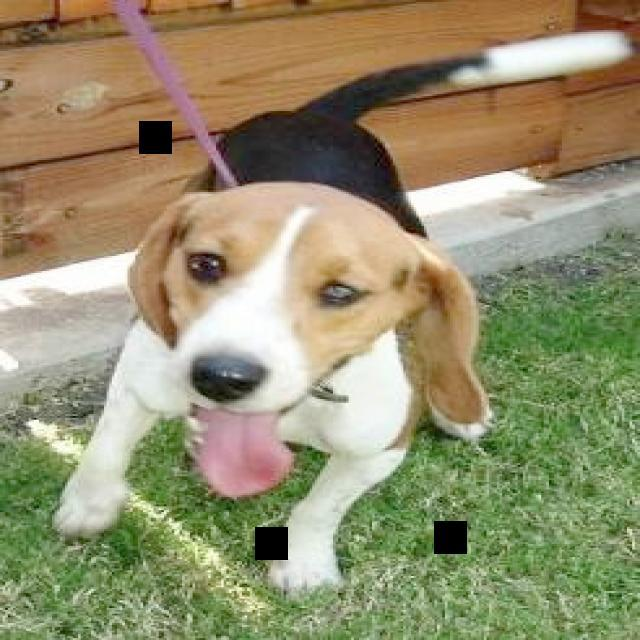puppy-dog: (51, 21, 640, 604)
